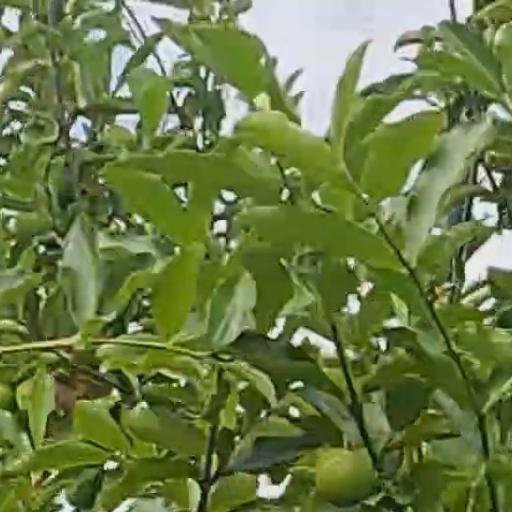acerola: (315, 448, 374, 506)
